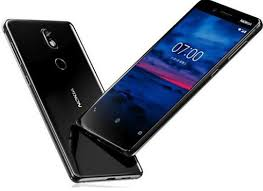nokia: (74, 1, 263, 155), (1, 15, 147, 182)
